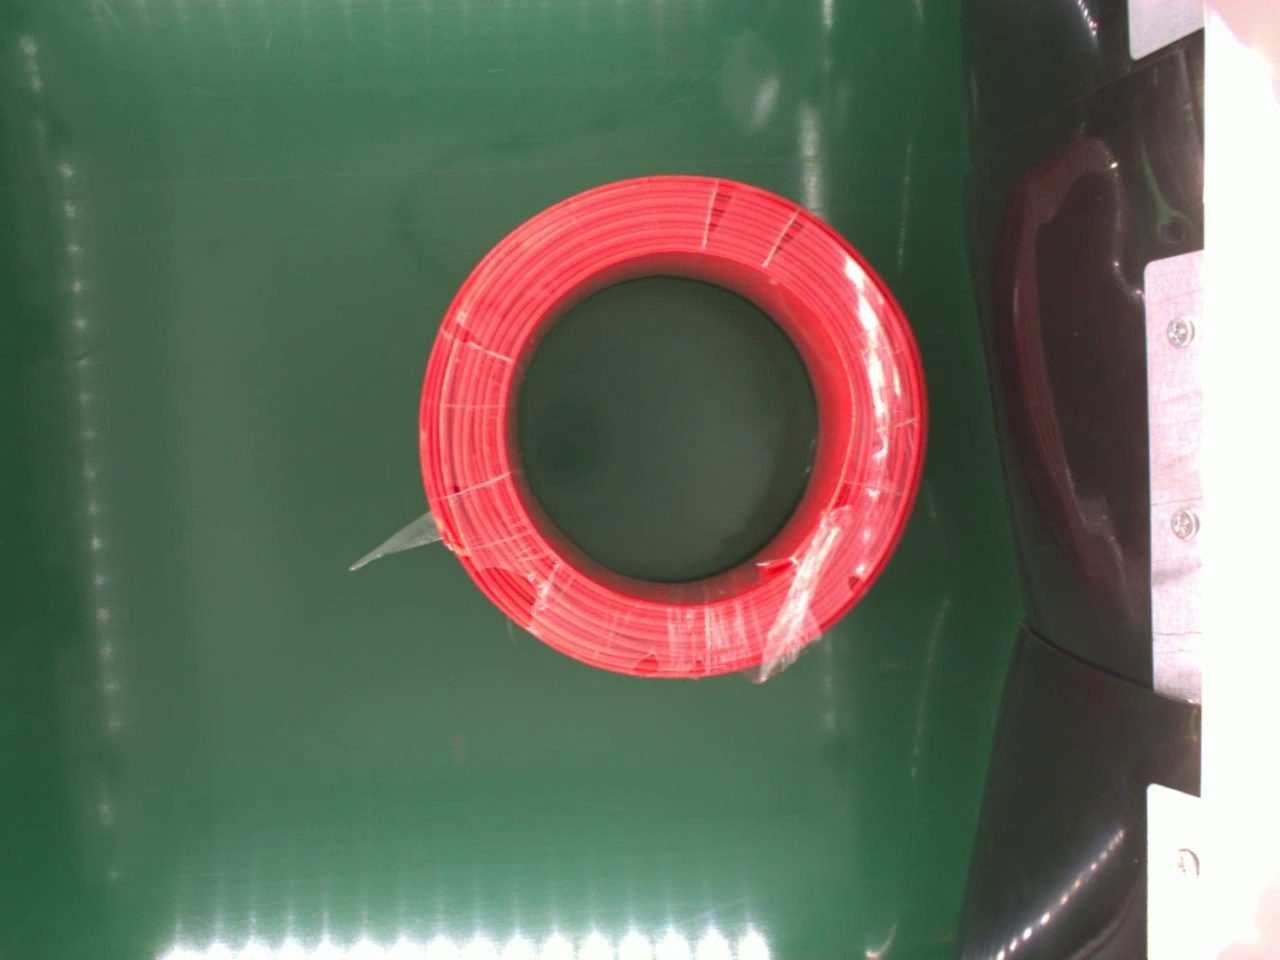red: (413, 171, 930, 681)
